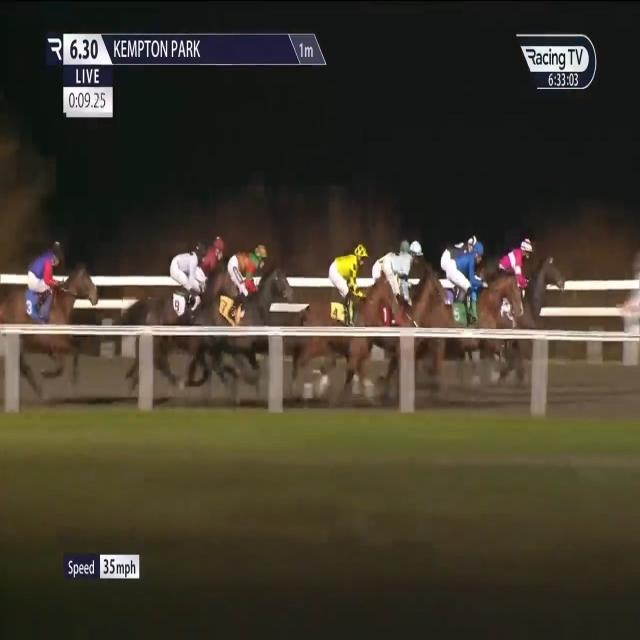horses-racing: (0, 236, 97, 388), (302, 243, 388, 372), (208, 229, 280, 366), (483, 227, 560, 347), (145, 241, 210, 363), (371, 234, 426, 328), (444, 241, 487, 336), (436, 225, 488, 302), (190, 230, 231, 292)
